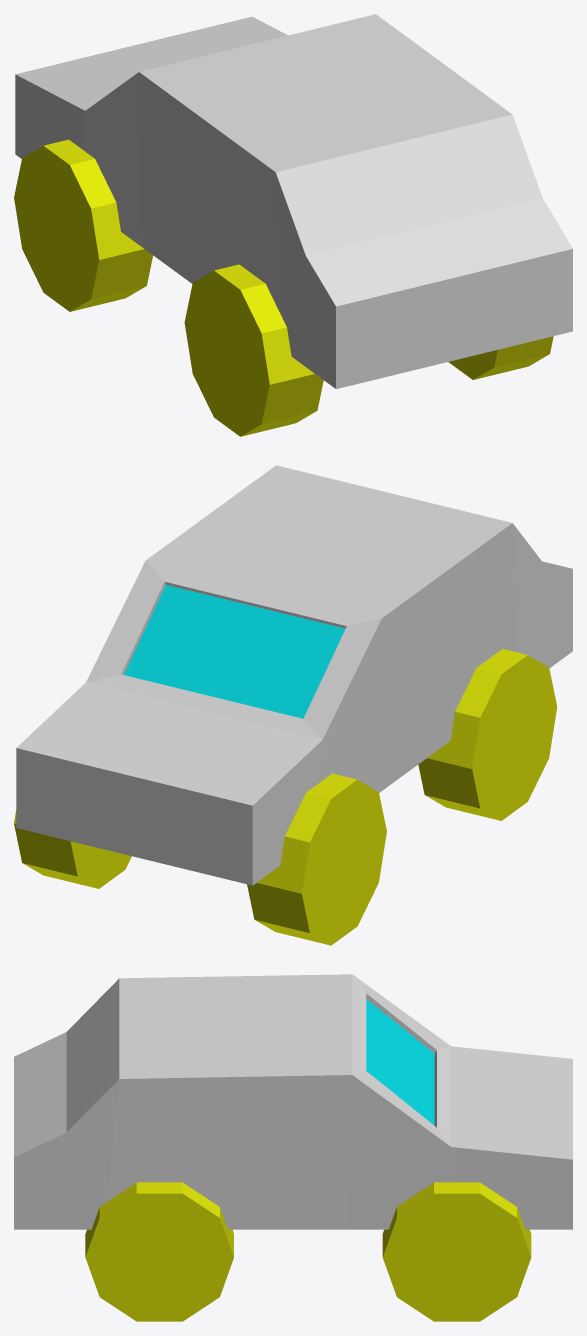
The model's file is Car.fbx.
3 renders of one model, top to bottom at view 1: azimuth 30°, elevation 25°; view 2: azimuth 150°, elevation 25°; view 3: azimuth 270°, elevation 25°, orthographic. The views are drawn at different scales.
Visible parts, largest first — view 1: Cube, Cylinder.001, Cylinder.003, Cylinder; view 2: Cube, Cube.001, Cylinder.003, Cylinder.001, Cylinder.002; view 3: Cube, Cylinder.002, Cylinder, Cube.001.
Boxes of the visible parts, <box> form: Cube: <box>15,14,572,389</box>; Cylinder.001: <box>184,264,323,436</box>; Cylinder.003: <box>14,139,152,311</box>; Cylinder: <box>448,336,553,379</box>; Cube: <box>16,465,572,885</box>; Cube.001: <box>124,585,345,718</box>; Cylinder.003: <box>247,773,386,945</box>; Cylinder.001: <box>418,649,557,820</box>; Cylinder.002: <box>14,810,131,888</box>; Cube: <box>14,974,572,1229</box>; Cylinder.002: <box>382,1182,531,1321</box>; Cylinder: <box>85,1182,233,1321</box>; Cube.001: <box>366,999,434,1125</box>.
Size of the model in its own units: 390 by 348 by 752.
